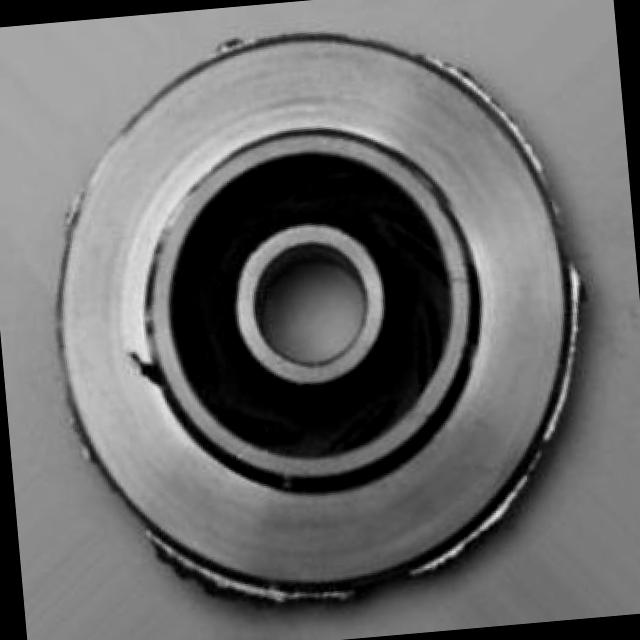Defect: (111, 324, 182, 410), (558, 262, 596, 318)
